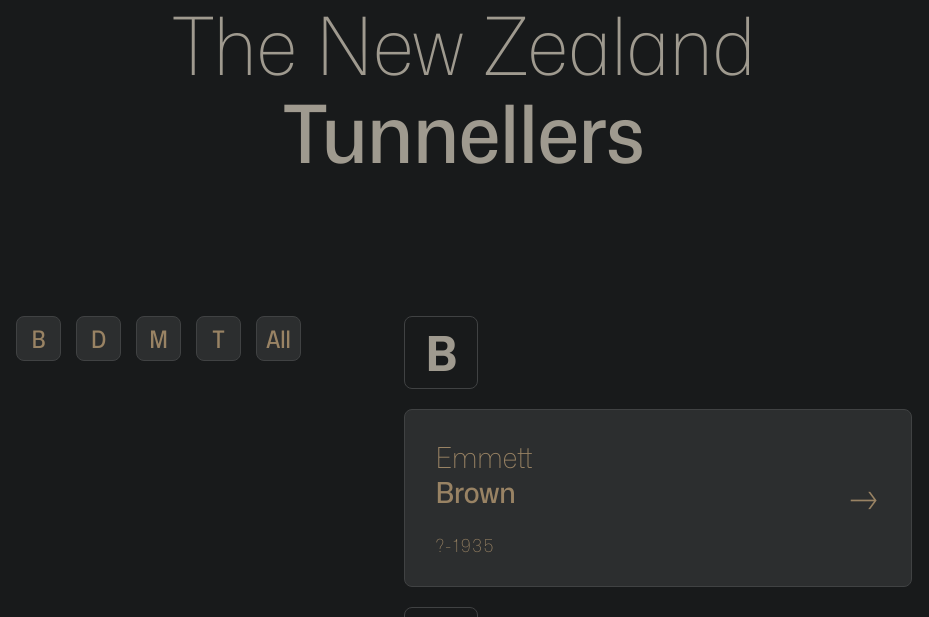
Test case: Roll › should filter by name
Click the button named "Filter names by the letter D" at (98, 338), box [76, 316, 121, 361]
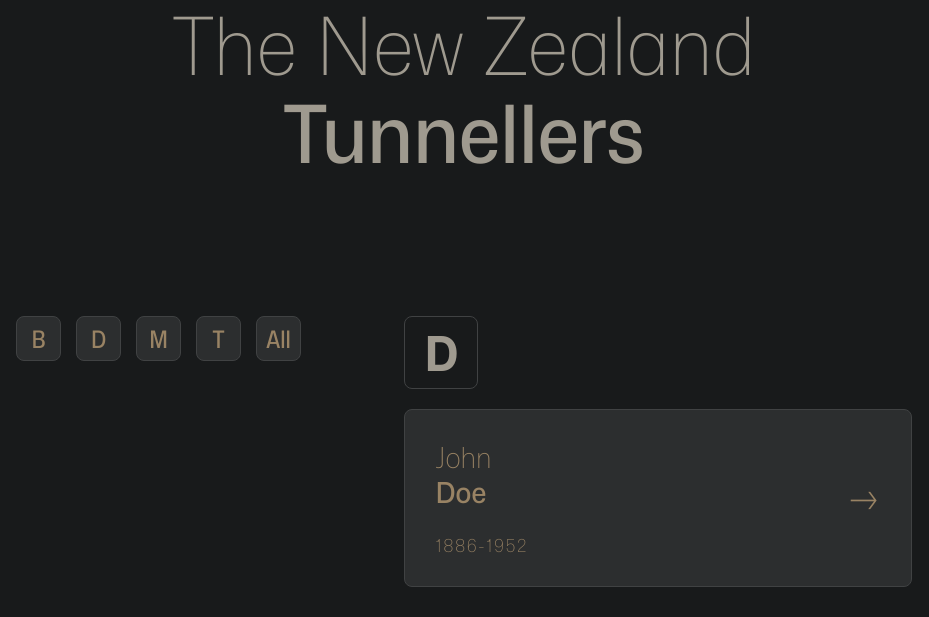
Check: the heading named "Letter D" is shown, box [424, 325, 458, 382]
Check: the link "Emmett" is gone
Check: the link "Brown" is gone
